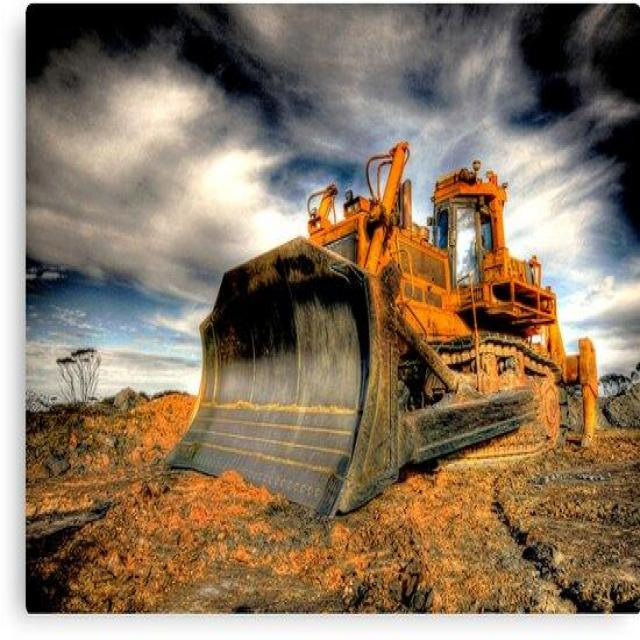Bulldozer: (163, 119, 632, 507)
